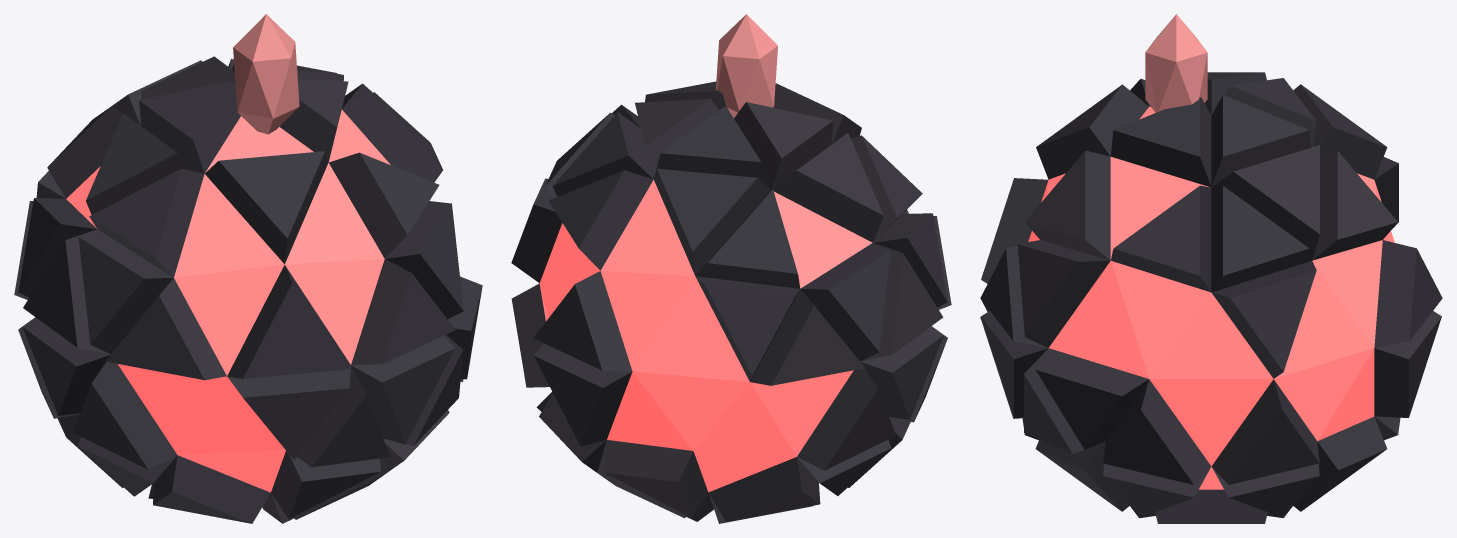
File: core.glb
The picture shows the model from 3 angles, left to right: view 1: azimuth 30°, elevation 25°; view 2: azimuth 150°, elevation 25°; view 3: azimuth 270°, elevation 25°; orthographic projection. The views are drawn at different scales.
Parts seen in each view (by area): view 1: core; view 2: core; view 3: core.
Part boxes in pixels (x1,y1,x2,y2): core: [14, 14, 482, 523]; core: [511, 14, 951, 523]; core: [980, 14, 1442, 523].
Size of the model in its own units: 0.2546 by 0.3113 by 0.2641.
